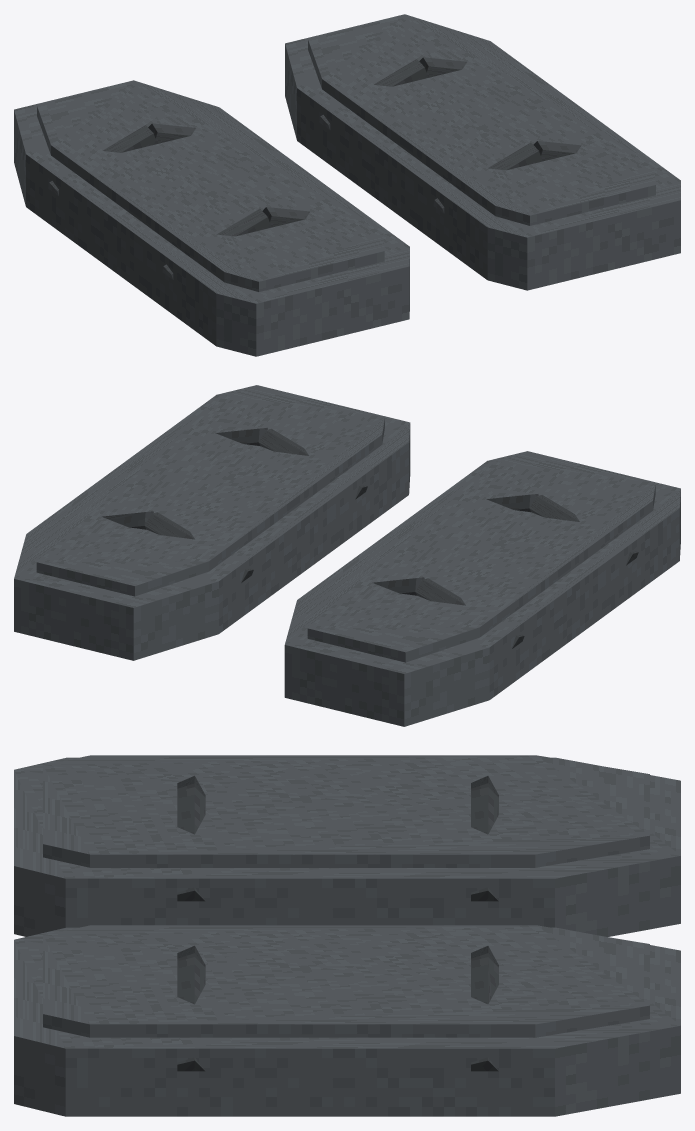
File: iotv_shoulder_plate.glb
3 views of the same model, one above another, from view 1: azimuth 30°, elevation 25°; view 2: azimuth 150°, elevation 25°; view 3: azimuth 270°, elevation 25° (orthographic). The views are drawn at different scales.
Parts seen in each view (by area): view 1: block_raised outer surface (×2), block_shaped protective panel (×2), block_retention strap 0 (×4), block_retention strap 1 (×4); view 2: block_raised outer surface (×2), block_shaped protective panel (×2), block_retention strap 0 (×4), block_retention strap 1 (×4); view 3: block_raised outer surface (×2), block_shaped protective panel (×2), block_retention strap 1 (×4).
Boxes of the visible parts, box(x1,y1,x2,y2) form: block_raised outer surface (×2): box(37, 15, 655, 291); block_shaped protective panel (×2): box(14, 14, 680, 356); block_retention strap 0 (×4): box(48, 59, 542, 279); block_retention strap 1 (×4): box(148, 57, 581, 227); block_raised outer surface (×2): box(36, 386, 655, 662); block_shaped protective panel (×2): box(14, 385, 680, 726); block_retention strap 0 (×4): box(144, 428, 638, 648); block_retention strap 1 (×4): box(102, 427, 538, 595); block_raised outer surface (×2): box(43, 755, 649, 1037); block_shaped protective panel (×2): box(14, 757, 680, 1116); block_retention strap 1 (×4): box(177, 787, 498, 1071).
Bounding box in the file's own units: 0.2538 × 0.0405 × 0.2425.
Materials: 1 (1 with a texture image).
